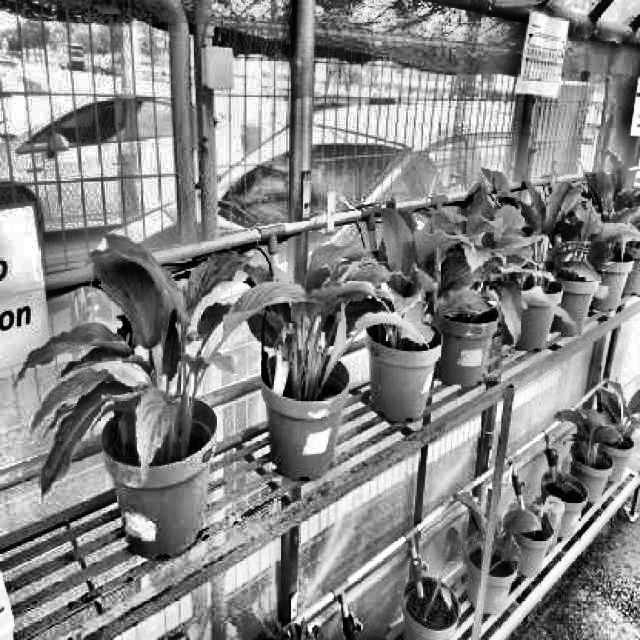plants: (14, 233, 310, 492), (224, 227, 436, 401), (430, 181, 548, 347), (470, 162, 587, 326), (370, 206, 493, 352)
